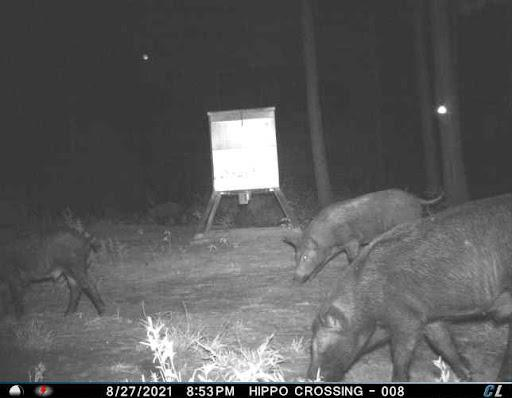Hog: (305, 194, 512, 385), (285, 189, 446, 288), (3, 220, 109, 330)
